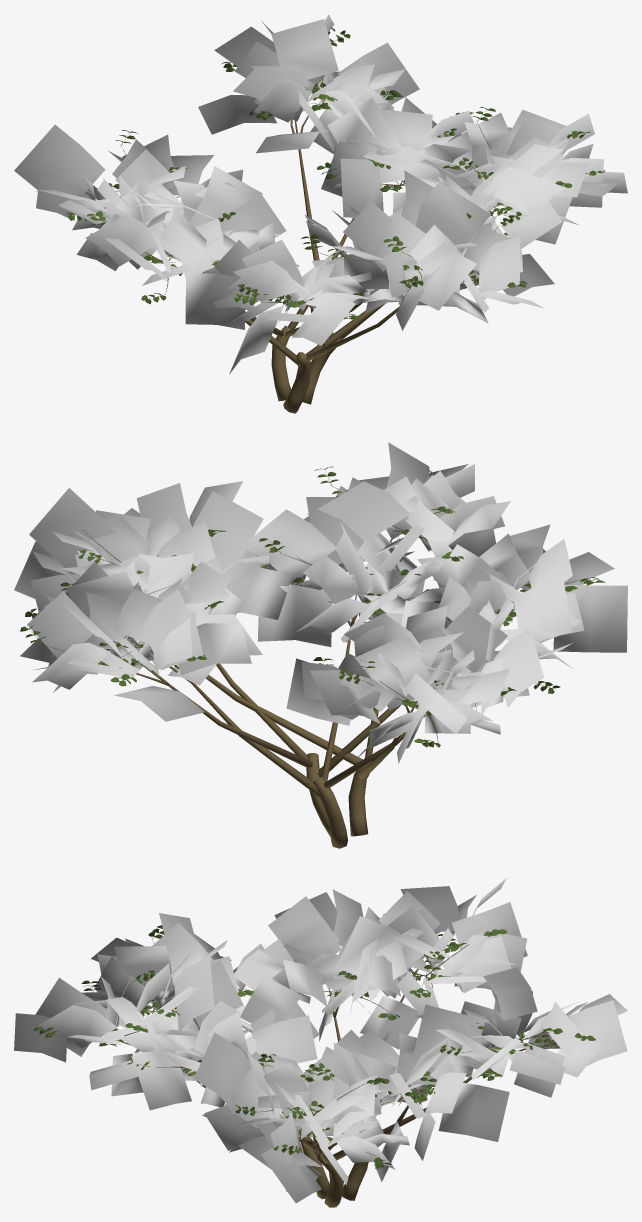
File: V7_Lentisque_1_Niveau0.fbx
3 views of the same model, one above another, from view 1: azimuth 30°, elevation 25°; view 2: azimuth 150°, elevation 25°; view 3: azimuth 270°, elevation 25° (orthographic). The views are drawn at different scales.
Parts seen in each view (by area): view 1: V7_Lentisque_1; view 2: V7_Lentisque_1; view 3: V7_Lentisque_1.
Boxes of the visible parts, left/top/right/bottom form: V7_Lentisque_1: left=14, top=14, right=627, bottom=413; V7_Lentisque_1: left=14, top=442, right=627, bottom=848; V7_Lentisque_1: left=14, top=878, right=627, bottom=1207.
Bounding box in the file's own units: 343 × 176 × 361.
